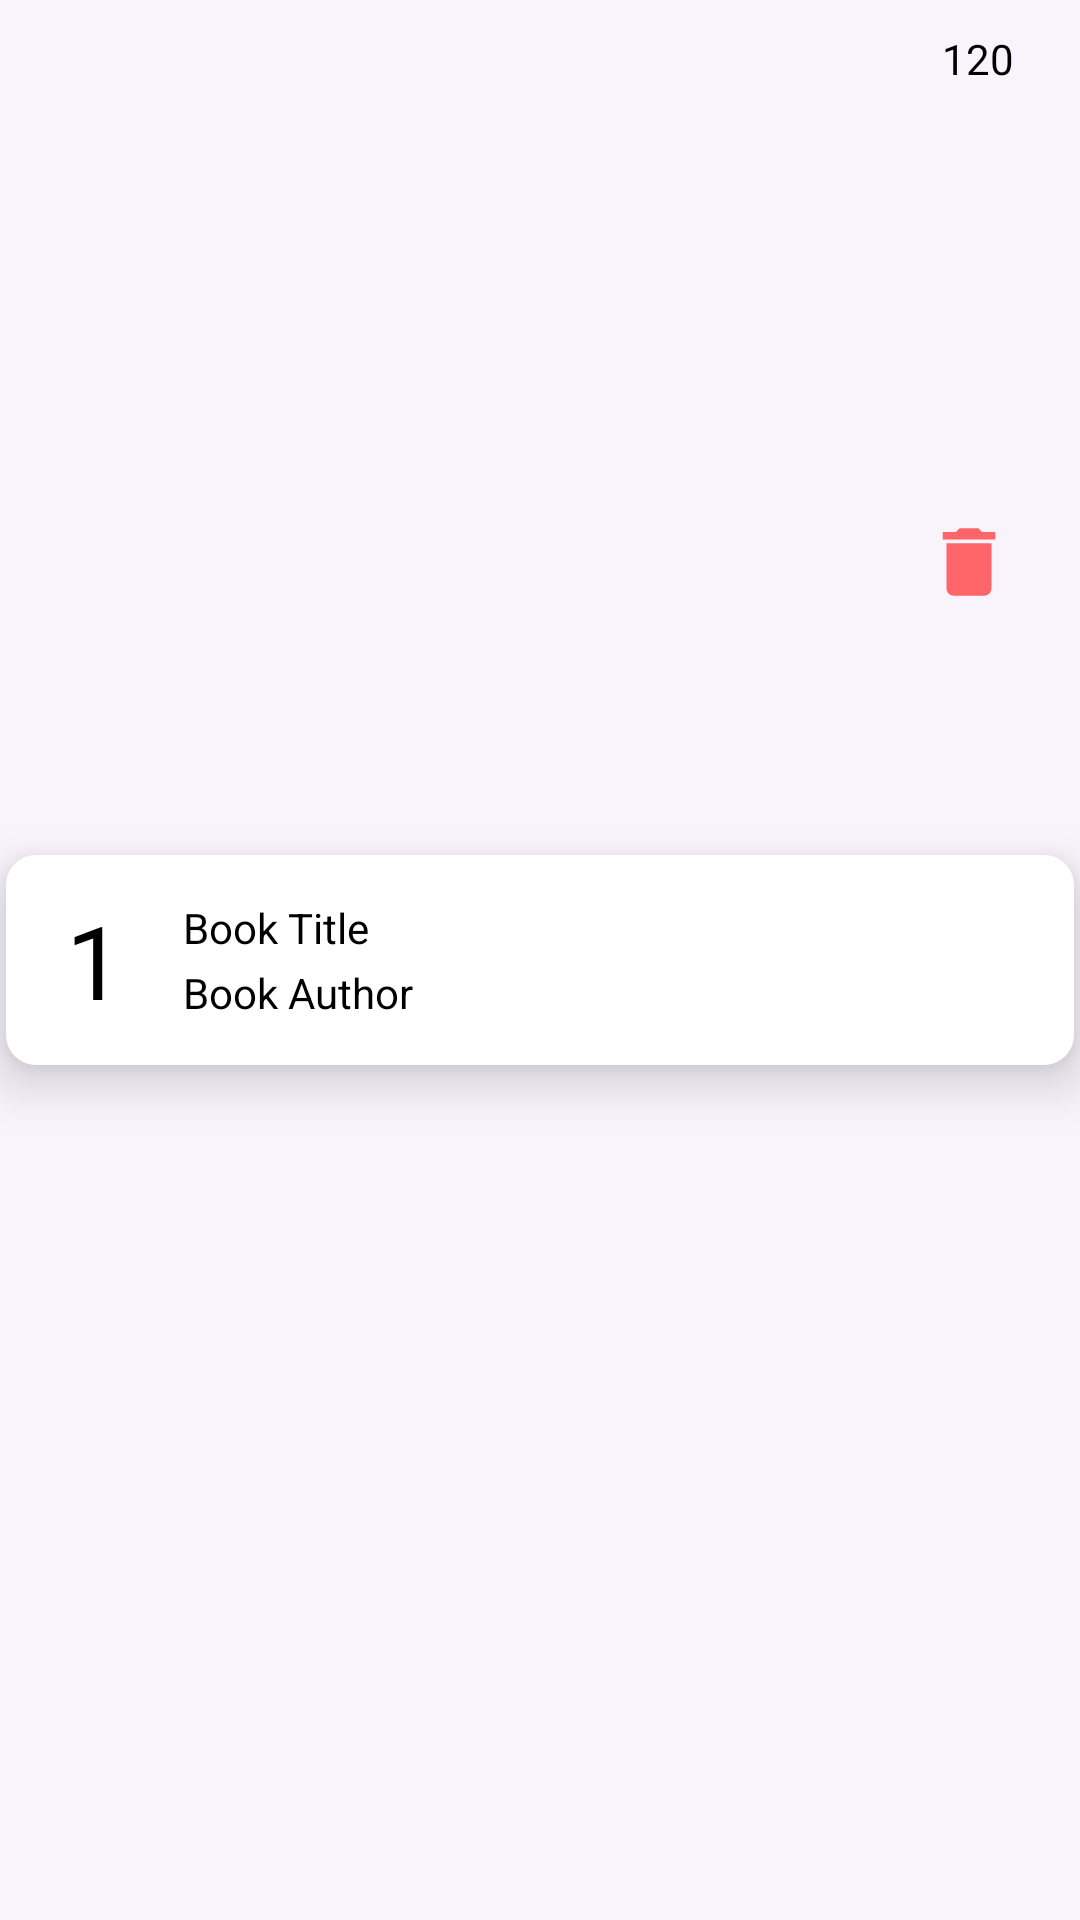

Where to tap for icons on this 1080×1920 app screen, as point (x, y):
delete: point (969, 562)
